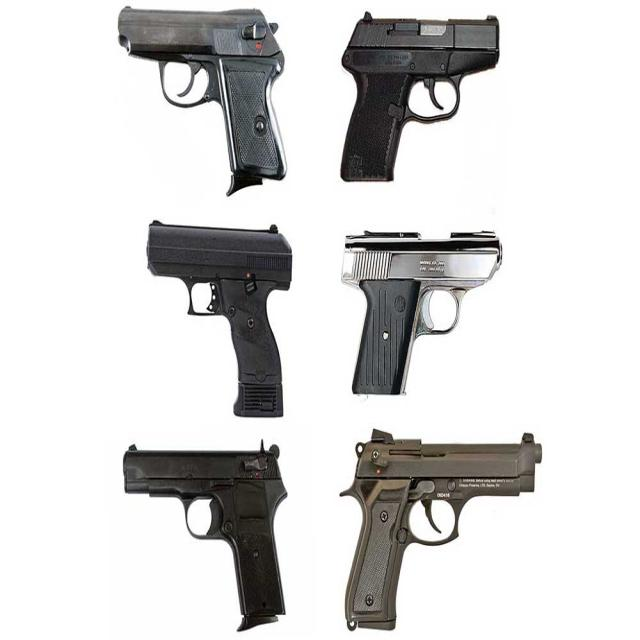HandGun: (344, 433, 543, 632), (120, 10, 286, 194), (126, 448, 287, 632), (146, 221, 293, 418), (339, 16, 500, 185), (341, 231, 502, 396)
